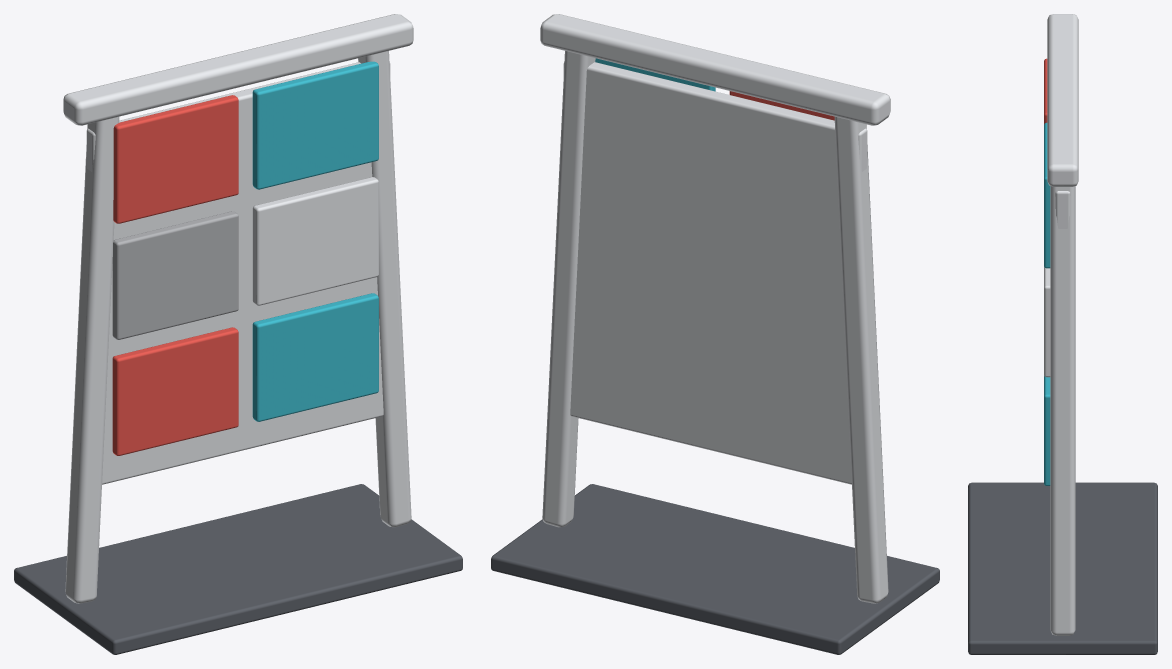
Rendered from colour-sample-board.glb.
3 renders of one model, left to right at view 1: azimuth 30°, elevation 25°; view 2: azimuth 150°, elevation 25°; view 3: azimuth 270°, elevation 25°, orthographic. The views are drawn at different scales.
Parts seen in each view (by area): view 1: colour-sample-board; view 2: colour-sample-board; view 3: colour-sample-board.
Boxes of the visible parts, x1=… form: colour-sample-board: x1=14, y1=14, x2=462, y2=654; colour-sample-board: x1=491, y1=14, x2=939, y2=654; colour-sample-board: x1=968, y1=14, x2=1157, y2=654.
Size of the model in its own units: 1.2 by 1.7 by 0.6001.
